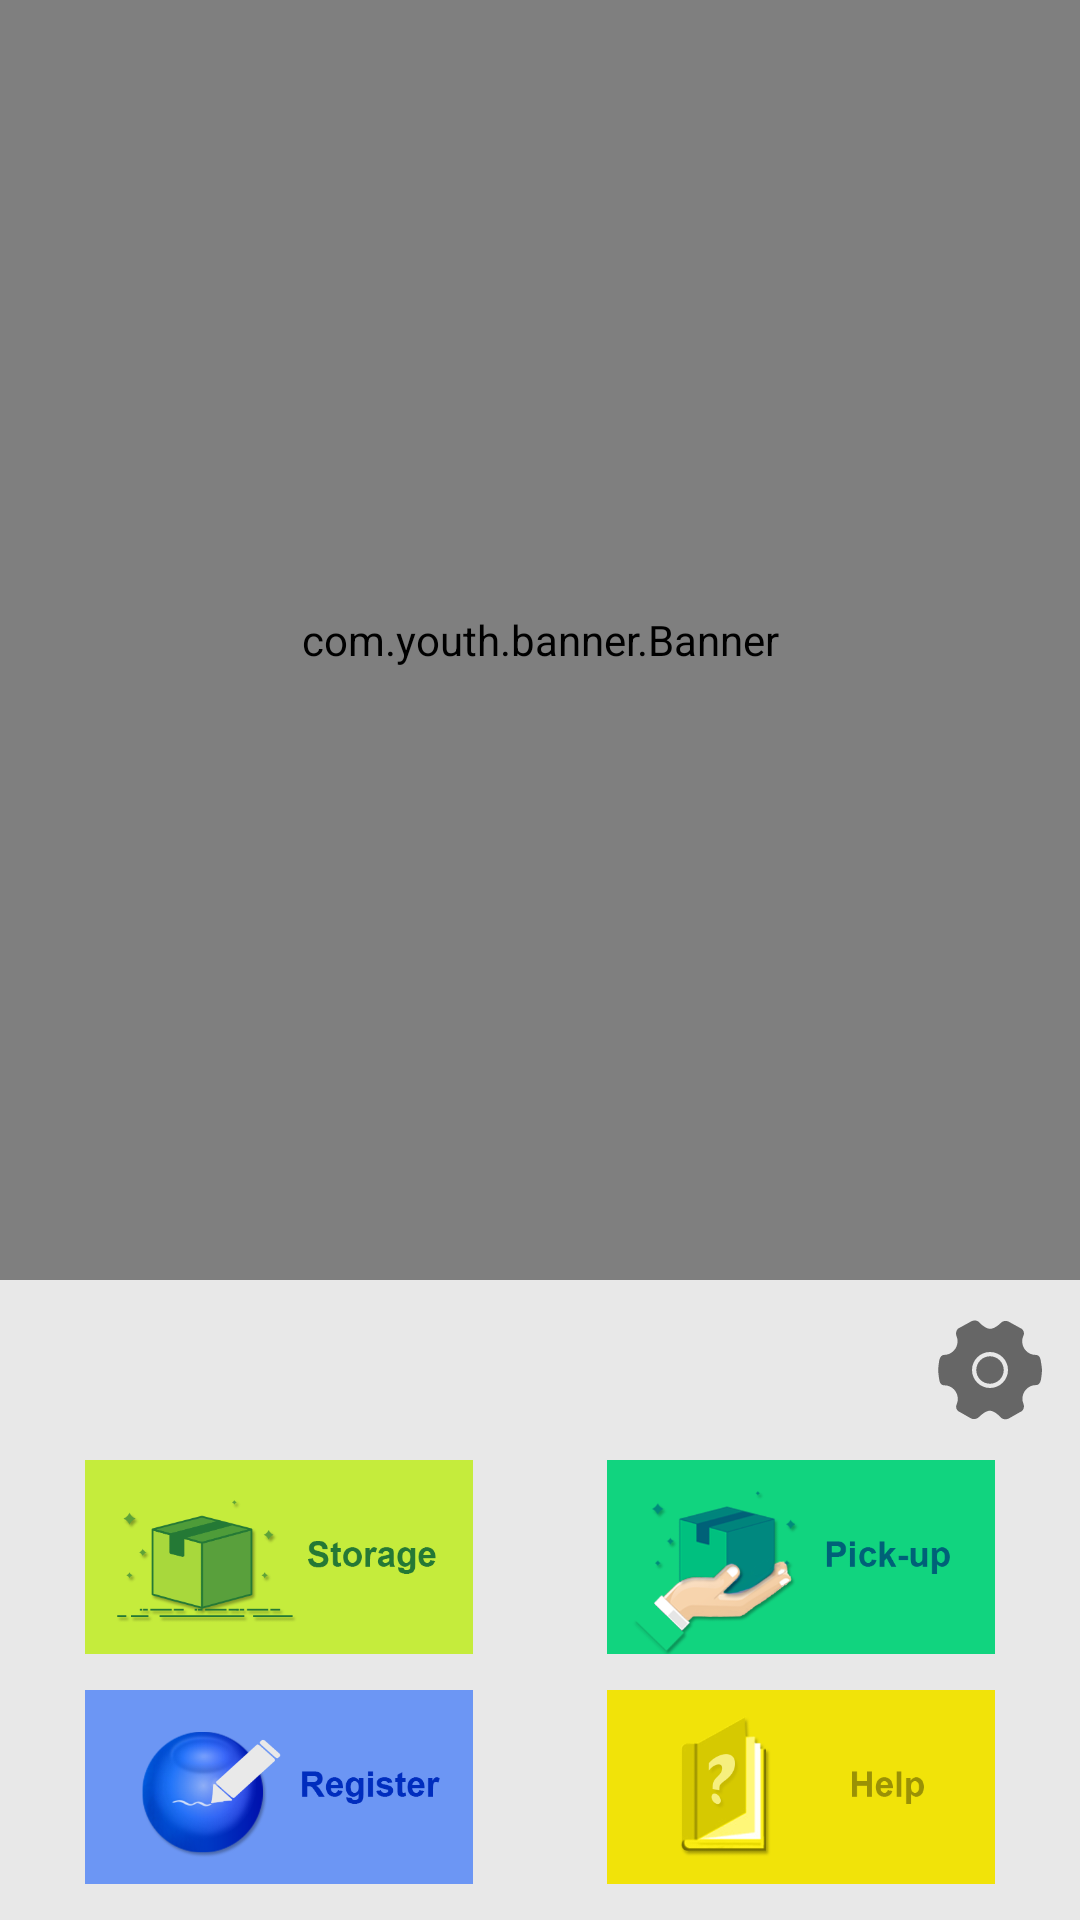

Locate icon controls on the screen. Image size 1080x1920, boxes as (x1=x1, y1=y1, x2=x2, y2=y2).
set: (x1=938, y1=1320, x2=1042, y2=1420)
